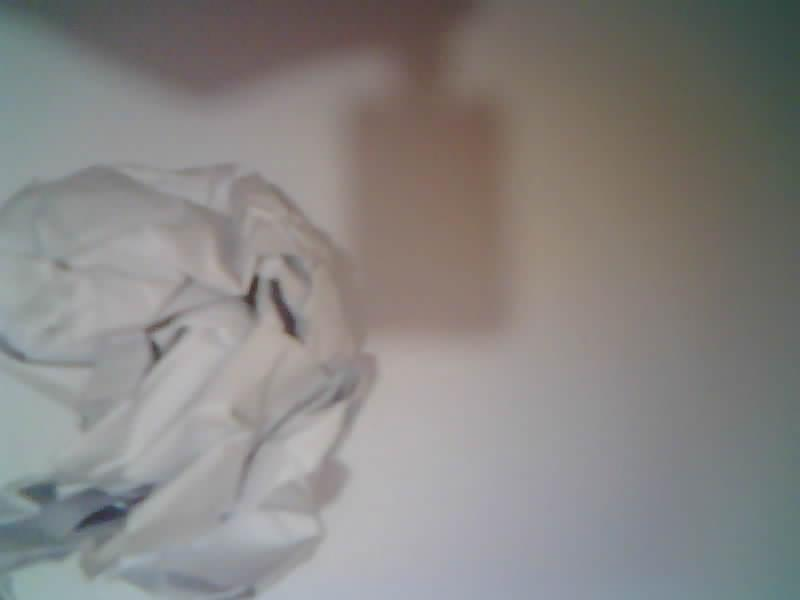biodegradable: (0, 166, 371, 599)
